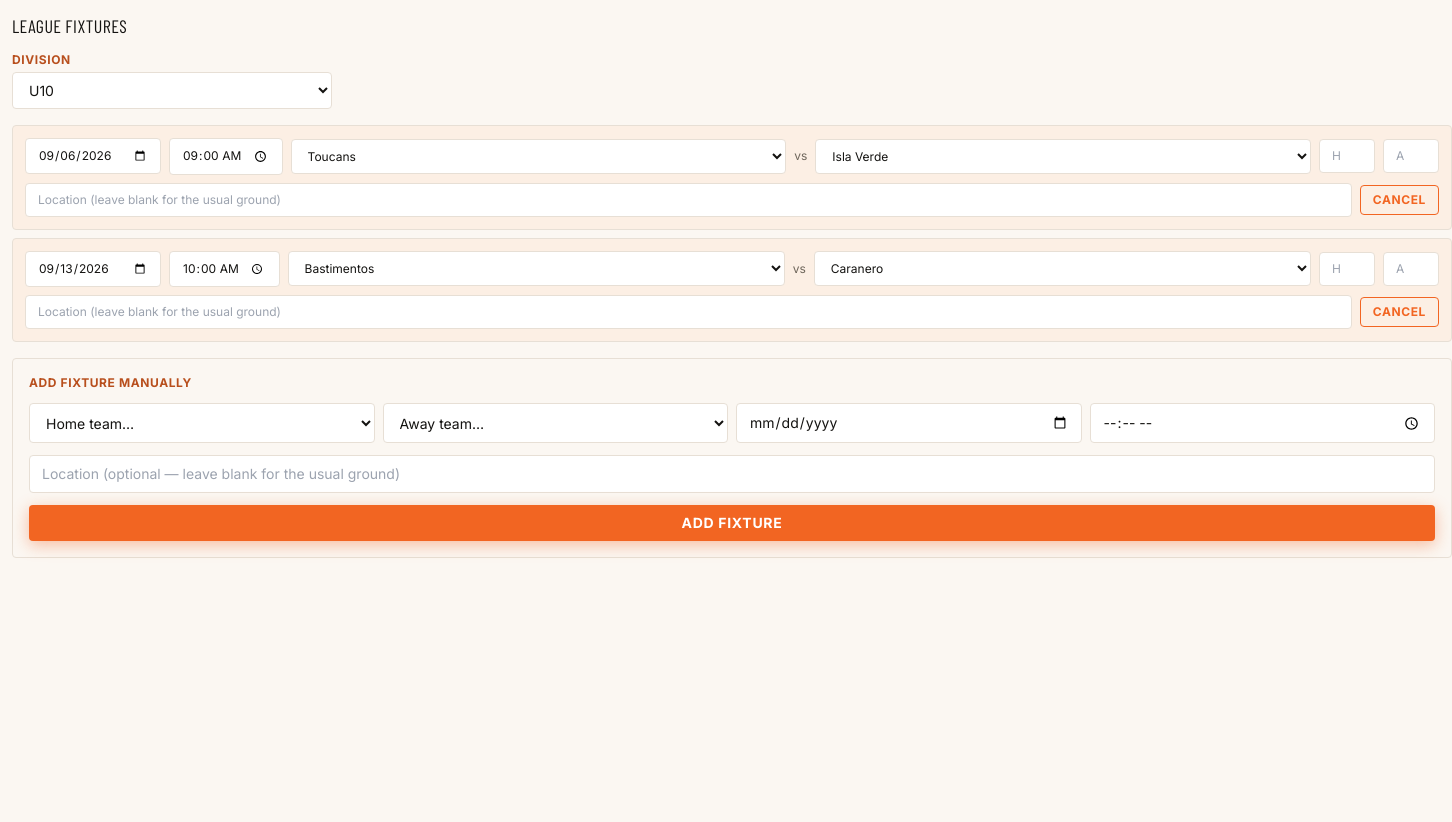
Test: LeagueFixturesAdmin — Save All › editing two rows without saving keeps their drafts independent
Expected: the 1st date field showing "2026-09-06" is shown, [25,138,161,174]
Type "4" into the 1st number field with placeholder "H".
click(1347, 156); type("4")  # box [1319,139,1375,173]
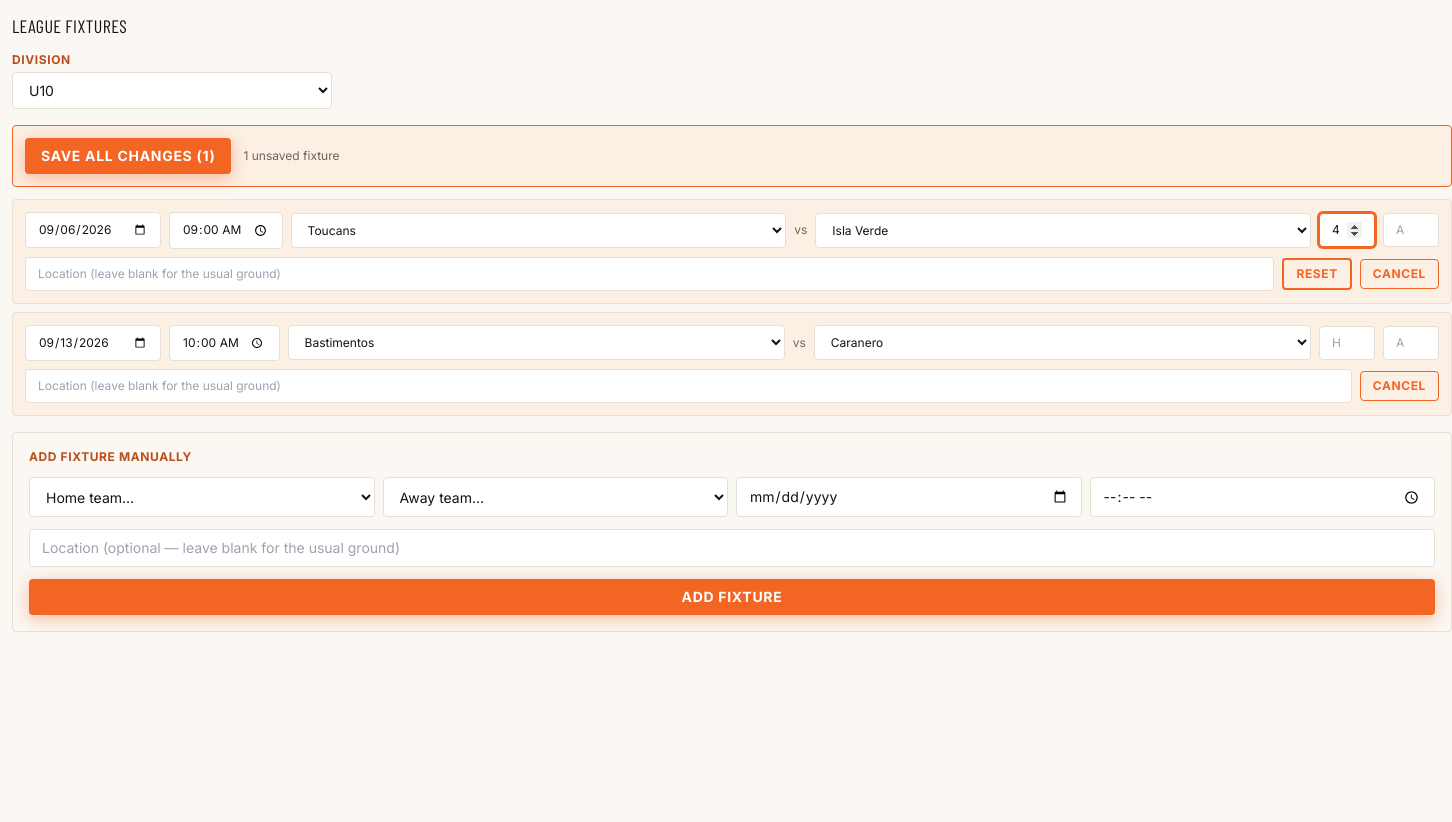
Type "2" into the number field with placeholder "H".
click(1347, 343); type("2")  # box [1319,326,1375,360]
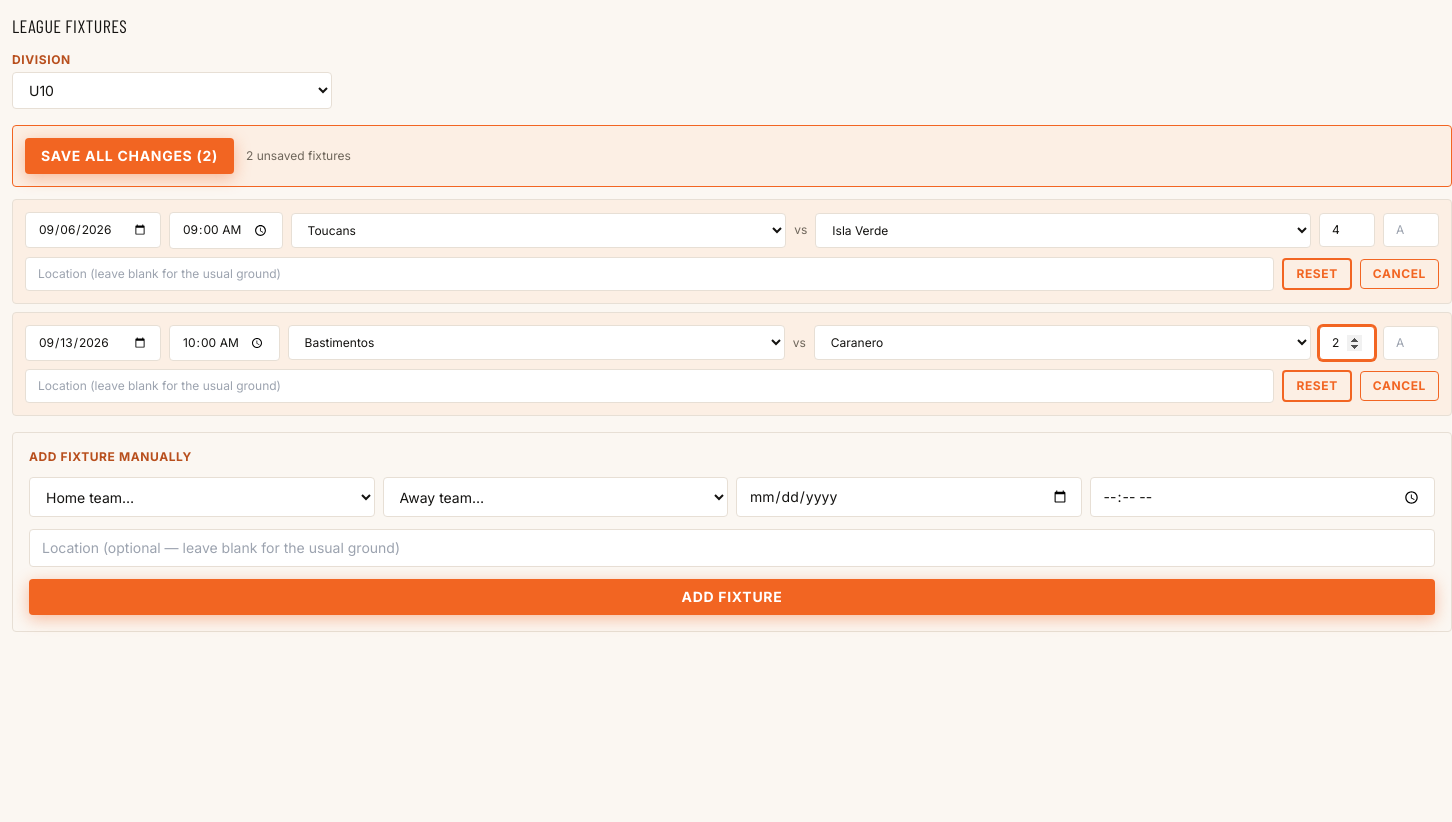
Now the button "Save All Changes (2)" is shown, box [25,138,234,174]
